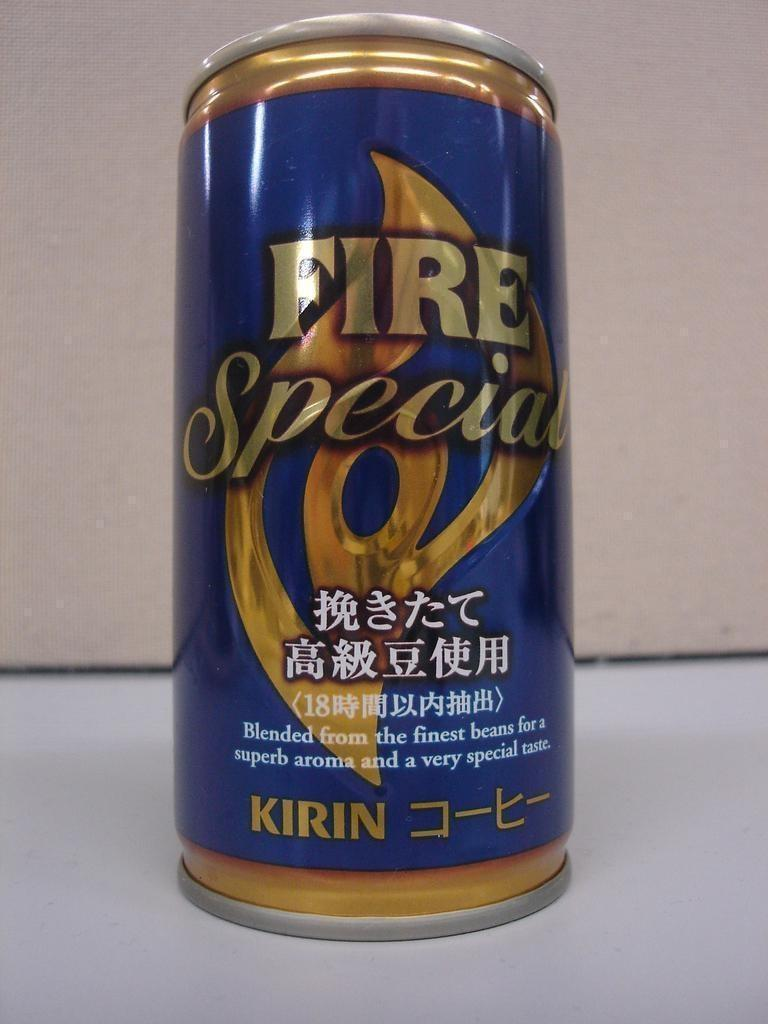tin can: (155, 1, 583, 944)
